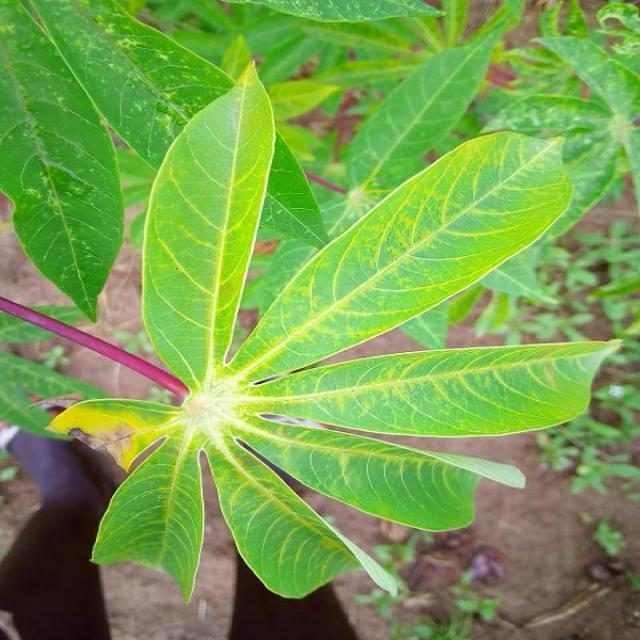cassava leaf: (2, 2, 624, 606), (226, 128, 575, 386), (140, 58, 278, 392)
